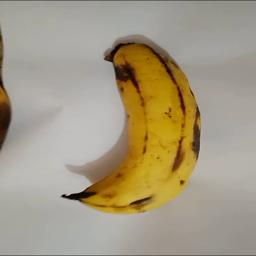Banana Semifresh: (61, 38, 205, 212)
